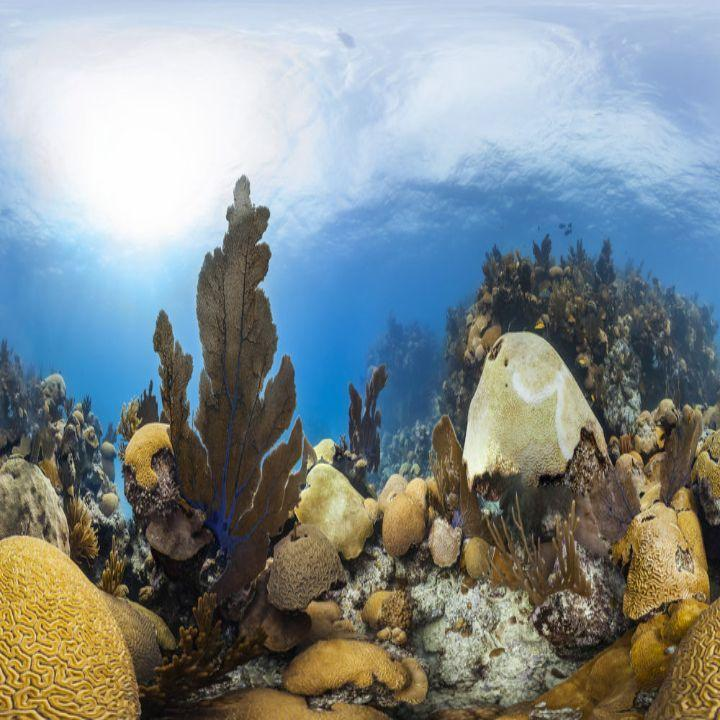Healthy Coral: (2, 355, 719, 712), (146, 174, 363, 591)
